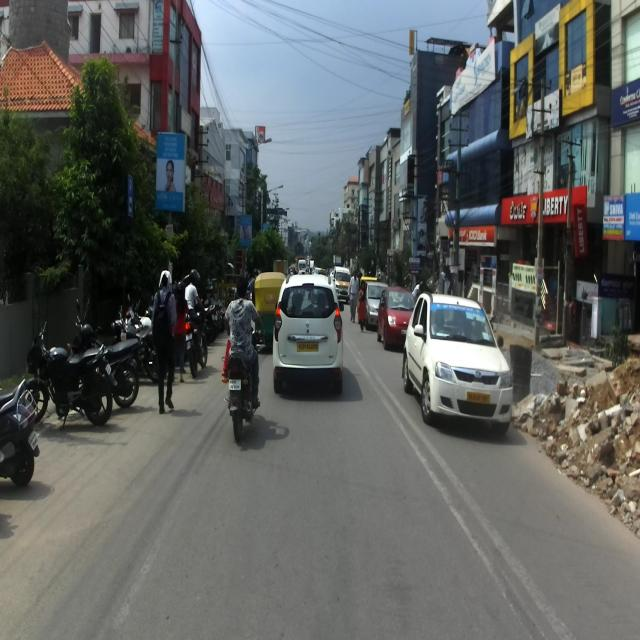Car: (361, 276, 396, 330)
Car_Chevrolet: (376, 286, 415, 350)
Car_Mahindra: (402, 288, 512, 438)
Car_Renault: (272, 271, 344, 395)
autorickshaw: (252, 272, 286, 350)
motorcycle: (221, 318, 264, 442)
motorcycle_RoyalEnfield: (110, 303, 168, 382)
motorcycle_bajaj: (26, 324, 117, 434), (67, 297, 139, 411), (178, 291, 210, 379)
scooter: (0, 377, 39, 488)
